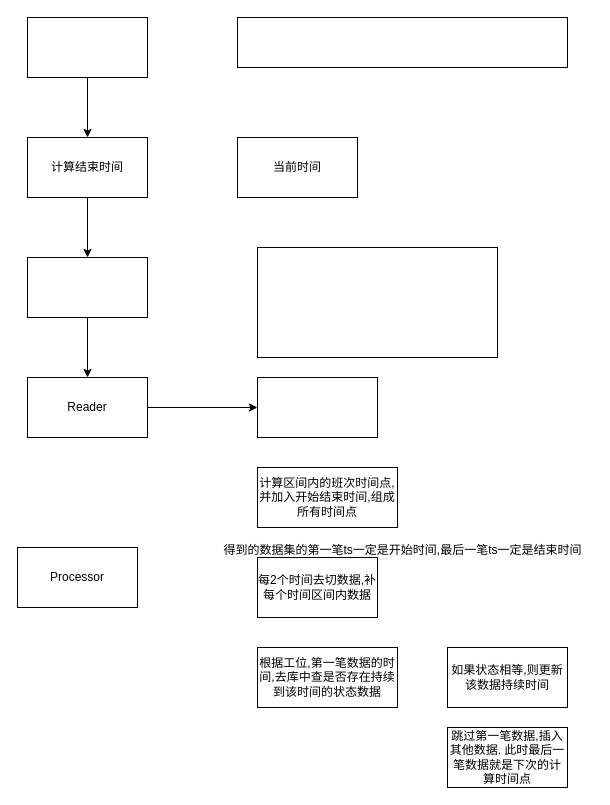
Some shapes in this 610 by 805 pixel diagram are drawn without their labels. The shapes that lost their labels are listed below. From the top down, each one's box as (x1, y1, x2, y2) in pixels, then its label:
(26, 16, 148, 78): 计算开始时间
(236, 16, 568, 68): 工位已经计算的最大值, 没有则获取td数据的第一笔数据ts时间
(26, 256, 148, 318): 工位-开始-结束时间发起任务
(256, 246, 498, 358): 开始结束时间切分为n天 1--->1-24 2----> 0-24 3---->0-24 4------>24----9 5----> 9----10
(256, 376, 378, 438): 根据时间区间读取td数据
